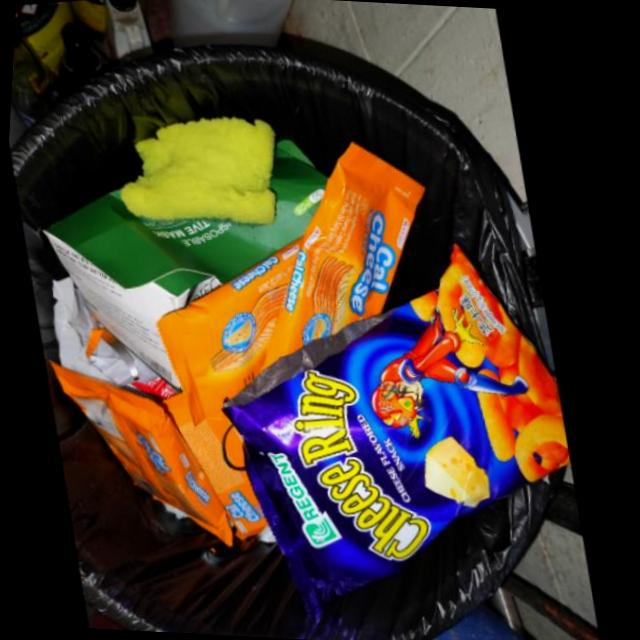bao_bi_thuc_pham: (229, 244, 576, 622), (270, 143, 435, 369), (57, 360, 236, 547), (164, 238, 313, 426), (169, 392, 272, 539)
carton: (53, 140, 339, 391)
